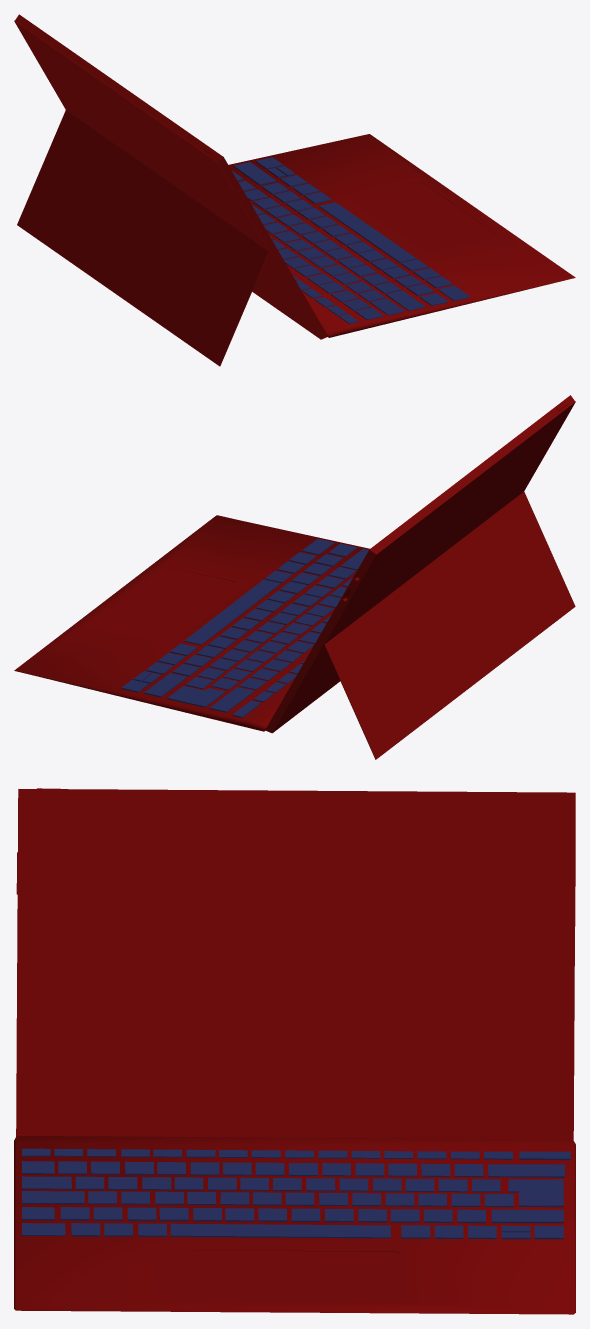
3 views of the same model, one above another, from view 1: azimuth 30°, elevation 25°; view 2: azimuth 150°, elevation 25°; view 3: azimuth 270°, elevation 25° (orthographic). The views are drawn at different scales.
Parts seen in each view (by area): view 1: Box181; view 2: Box181; view 3: Box181.
Boxes of the visible parts, left/top/right/bottom form: Box181: left=14, top=14, right=575, bottom=366; Box181: left=14, top=395, right=575, bottom=759; Box181: left=14, top=788, right=575, bottom=1314.
Size of the model in its own units: 30.96 by 17.44 by 30.23.
